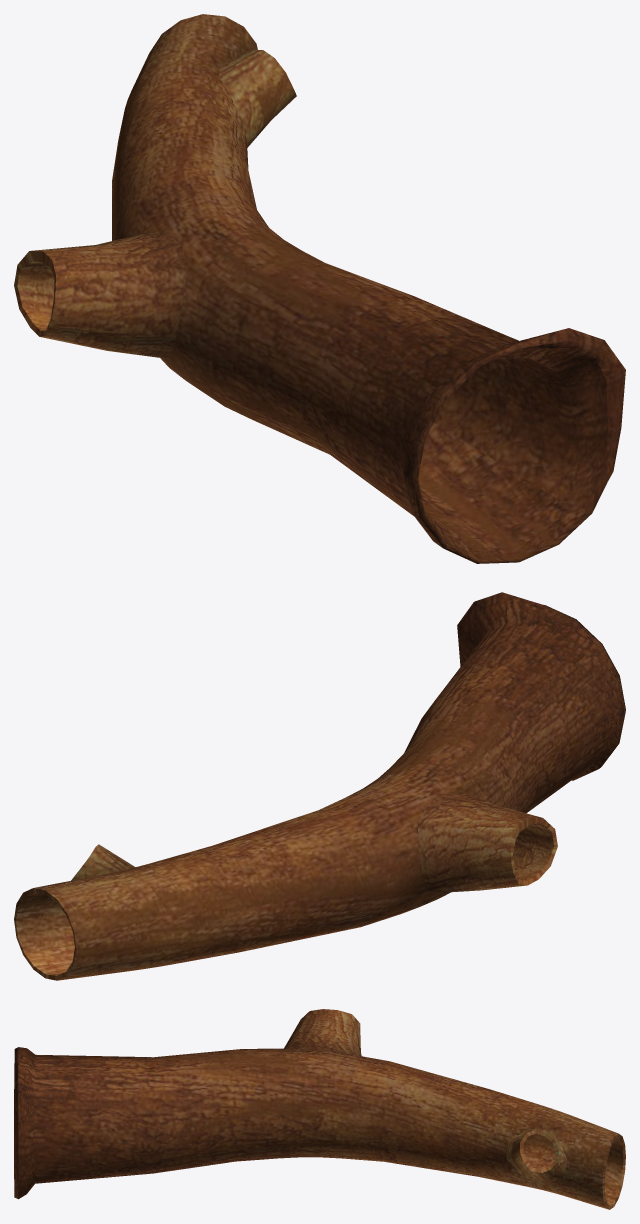
File: Souche.FBX
3 renders of one model, top to bottom at view 1: azimuth 30°, elevation 25°; view 2: azimuth 150°, elevation 25°; view 3: azimuth 270°, elevation 25°, orthographic. The views are drawn at different scales.
Parts seen in each view (by area): view 1: Arbre; view 2: Arbre; view 3: Arbre.
Boxes of the visible parts, x1,y1,x2,y2 form: Arbre: (14,14,625,563); Arbre: (14,592,625,980); Arbre: (14,1009,625,1209).
Bounding box in the file's own units: 2.48 × 1.17 × 4.64.
